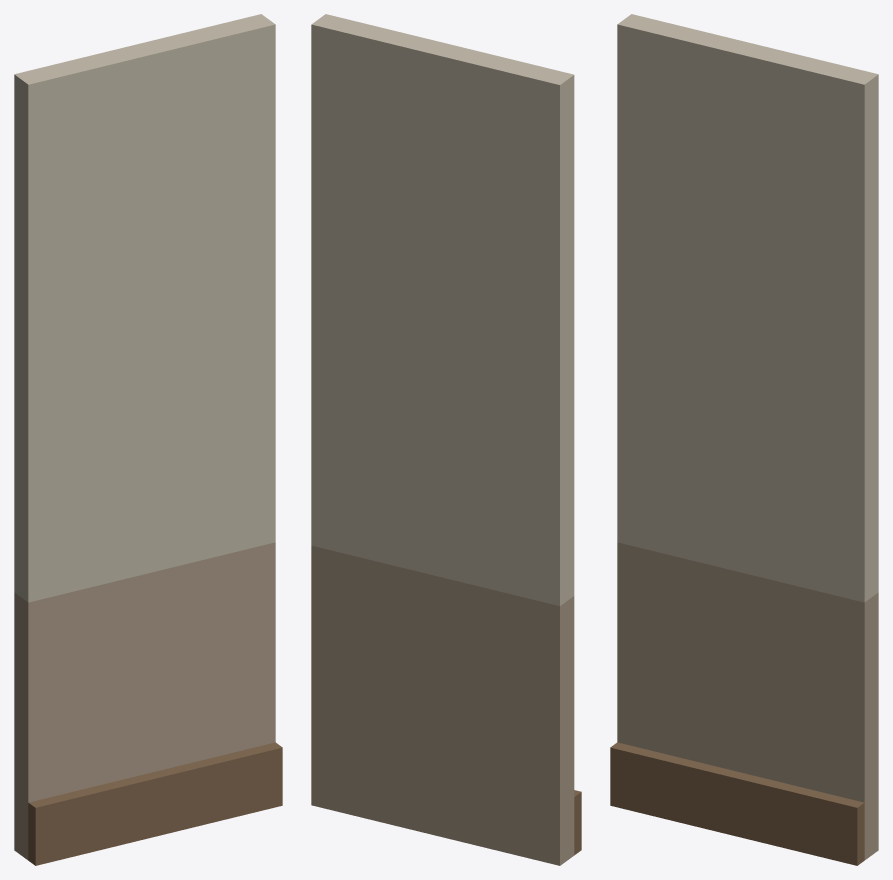
File: Mesh_WallBaseboard2Colors_A1.fbx
3 renders of one model, left to right at view 1: azimuth 30°, elevation 25°; view 2: azimuth 150°, elevation 25°; view 3: azimuth 330°, elevation 25°, orthographic.
Parts seen in each view (by area): view 1: Mesh_WallBaseboard2Colors_A1; view 2: Mesh_WallBaseboard2Colors_A1; view 3: Mesh_WallBaseboard2Colors_A1.
Boxes of the visible parts, left/top/right/bottom form: Mesh_WallBaseboard2Colors_A1: left=14, top=14, right=282, bottom=865; Mesh_WallBaseboard2Colors_A1: left=311, top=14, right=581, bottom=865; Mesh_WallBaseboard2Colors_A1: left=610, top=14, right=878, bottom=865.
Bounding box in the file's own units: 1 × 3 × 0.15.
